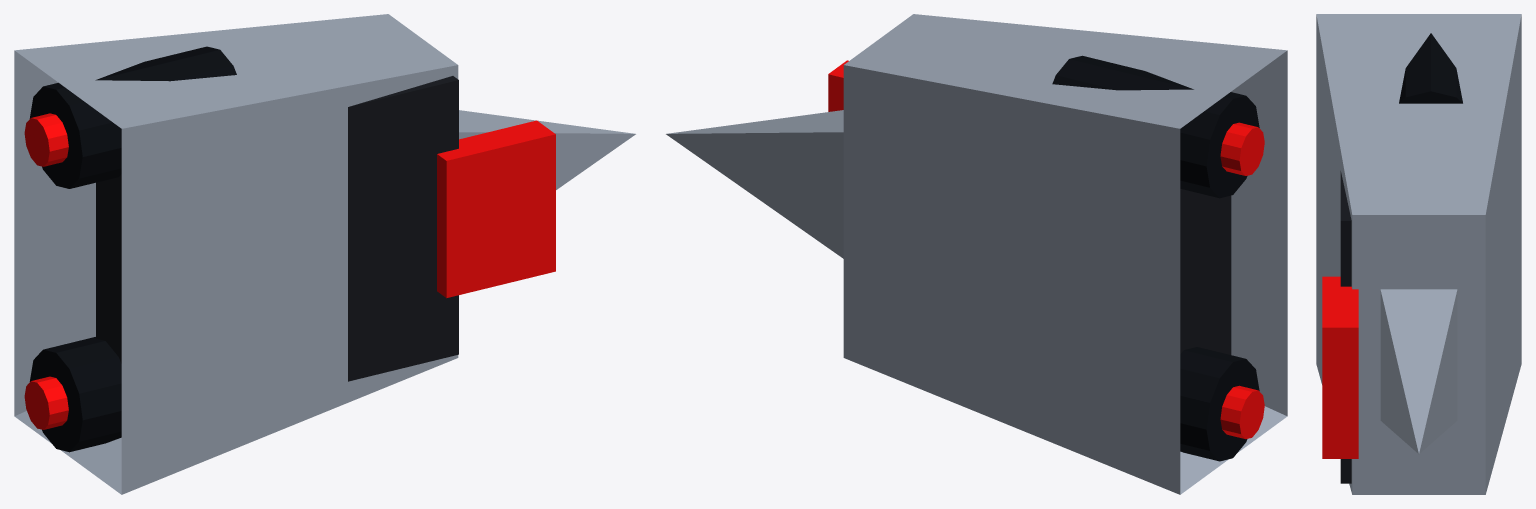
Rendered from assault.obj.
3 views of the same model, side by side, from view 1: azimuth 30°, elevation 25°; view 2: azimuth 150°, elevation 25°; view 3: azimuth 270°, elevation 25° (orthographic). The views are drawn at different scales.
Visible parts, largest first — view 1: assault; view 2: assault; view 3: assault.
Part boxes in pixels (x1,y1,x2,y2): assault: (14,14,635,494); assault: (666,14,1287,494); assault: (1316,14,1521,494).
Bounding box in the file's own units: 5.42 × 3.2 × 1.7.
